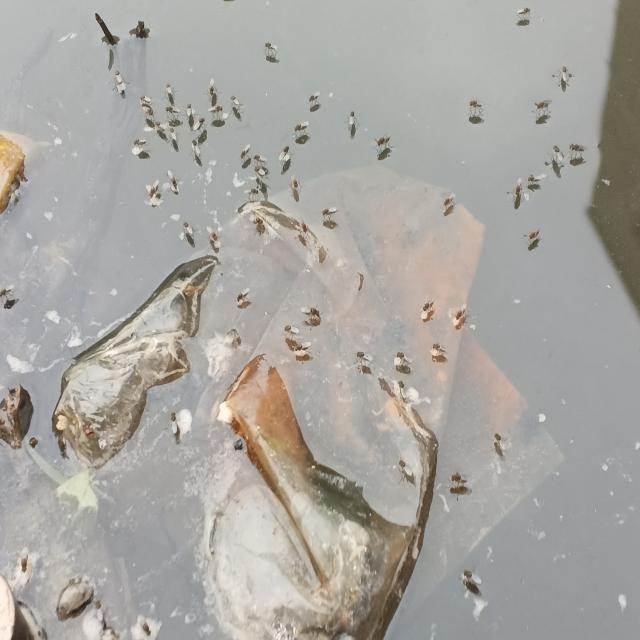Mosquito Swarm: (125, 76, 319, 254)
